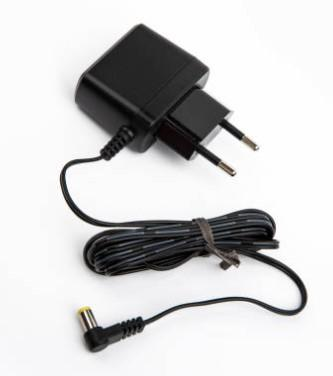cable: (60, 24, 308, 352)
